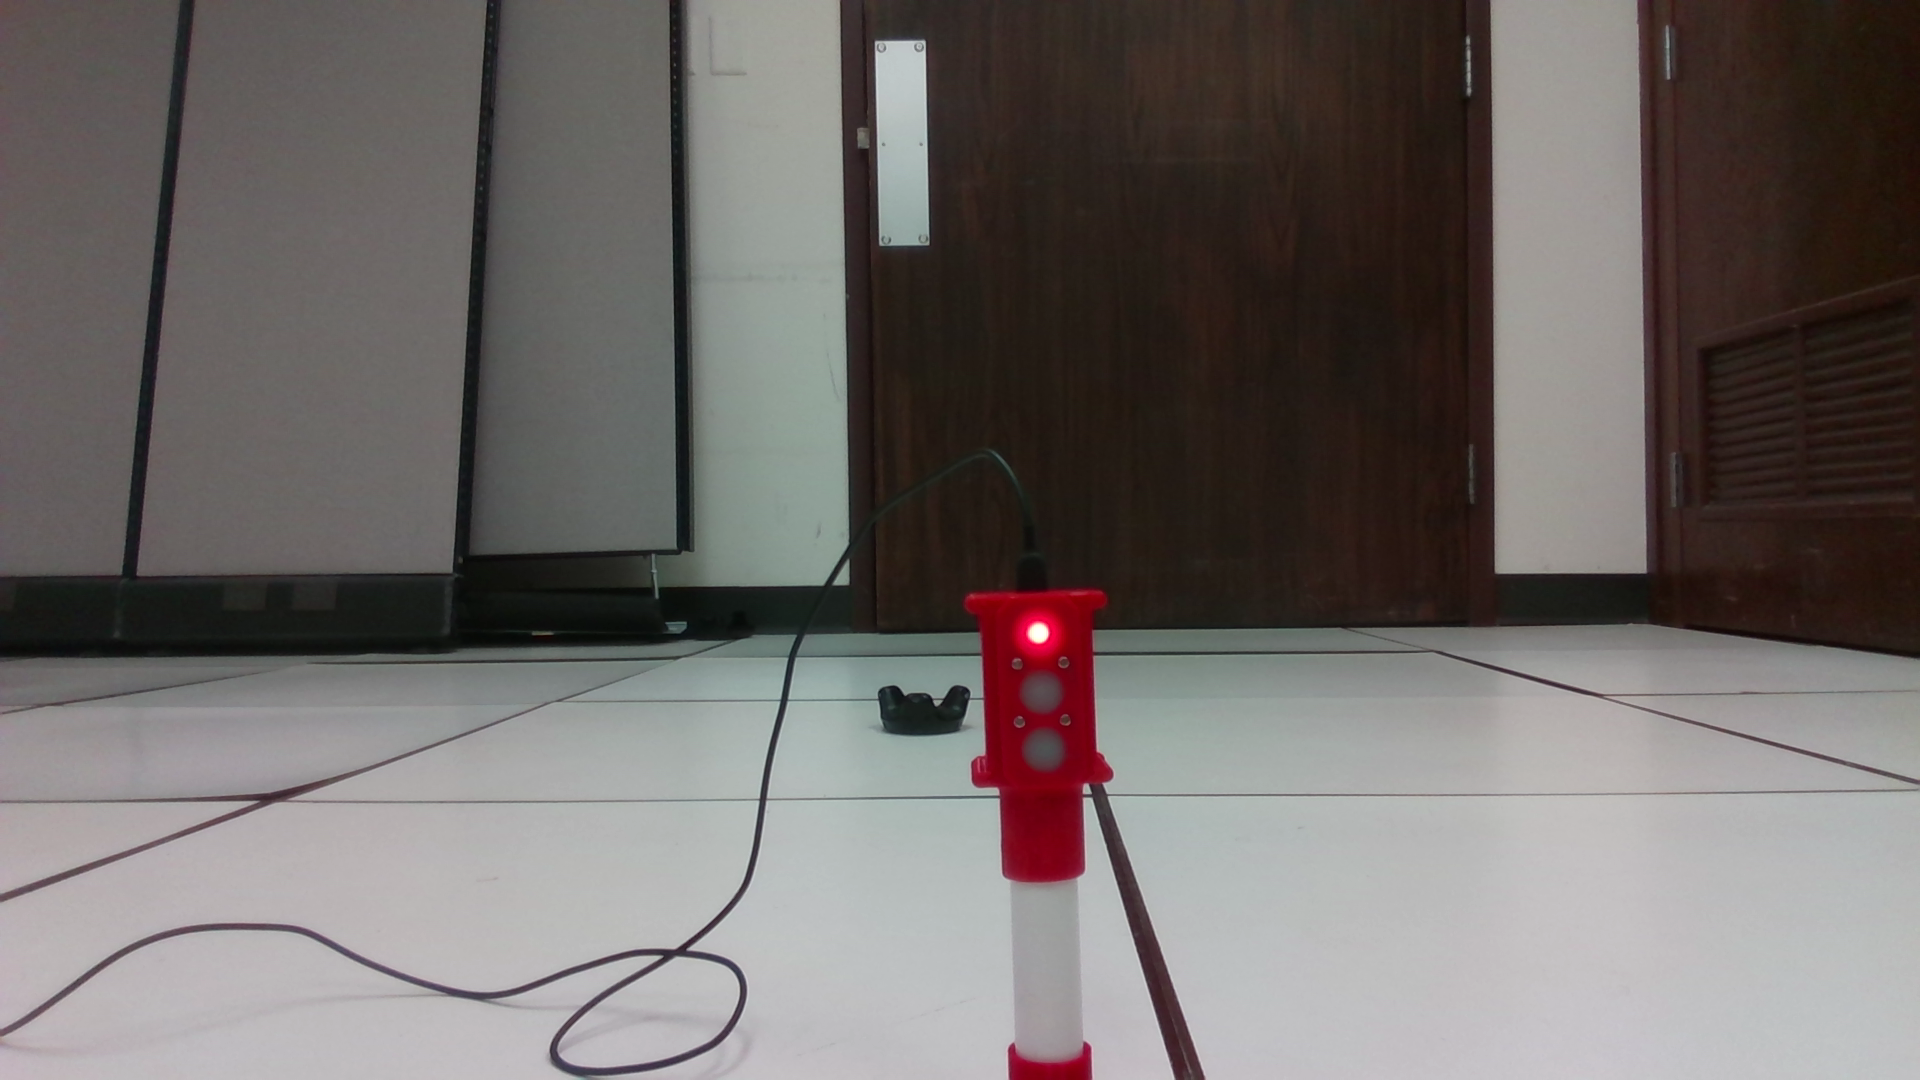stoplight: (957, 591, 1112, 890)
